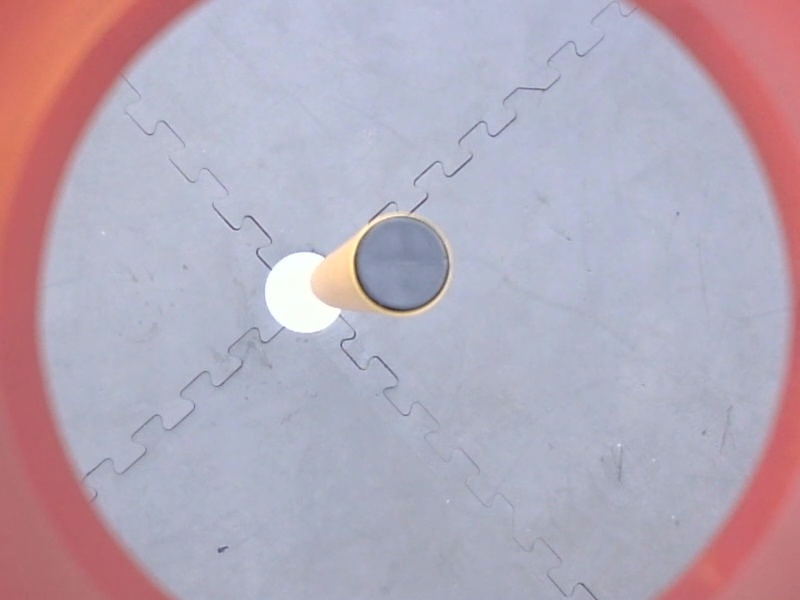tip: (348, 206, 462, 321)
